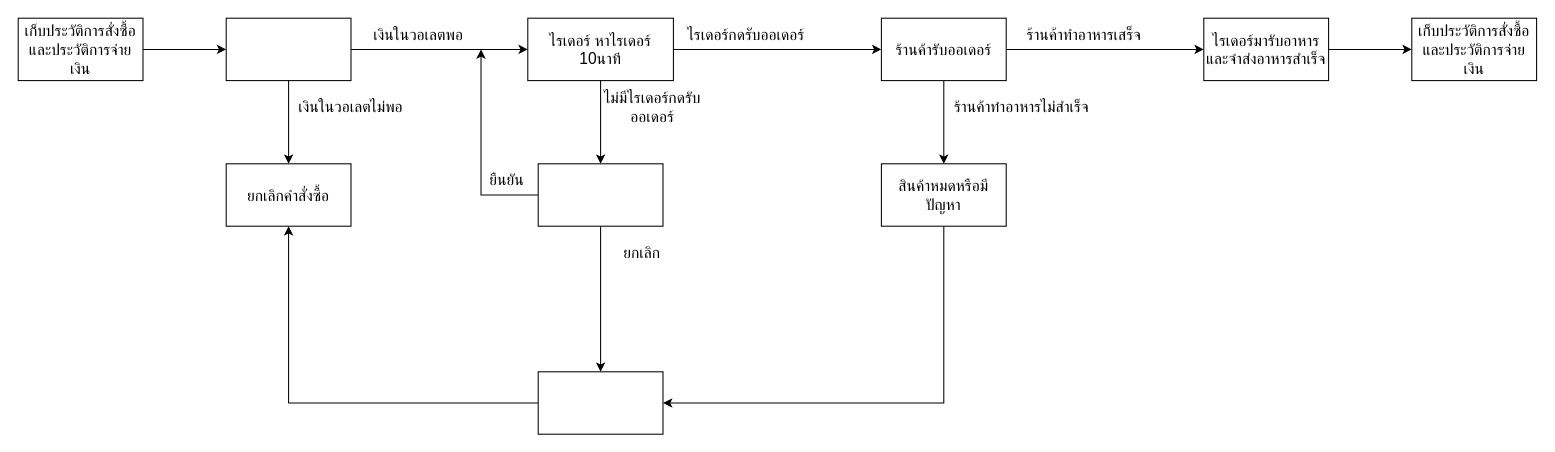
This 1555x452 diagram has some shape labels left out. Each missing label, with the box of its shape:
คืนเงิน: (537, 371, 663, 434)
ป็อปอัพหาไรเดอร์ต่อไปอีก: (537, 163, 663, 226)
เงินในวอเลต: (225, 17, 351, 81)
